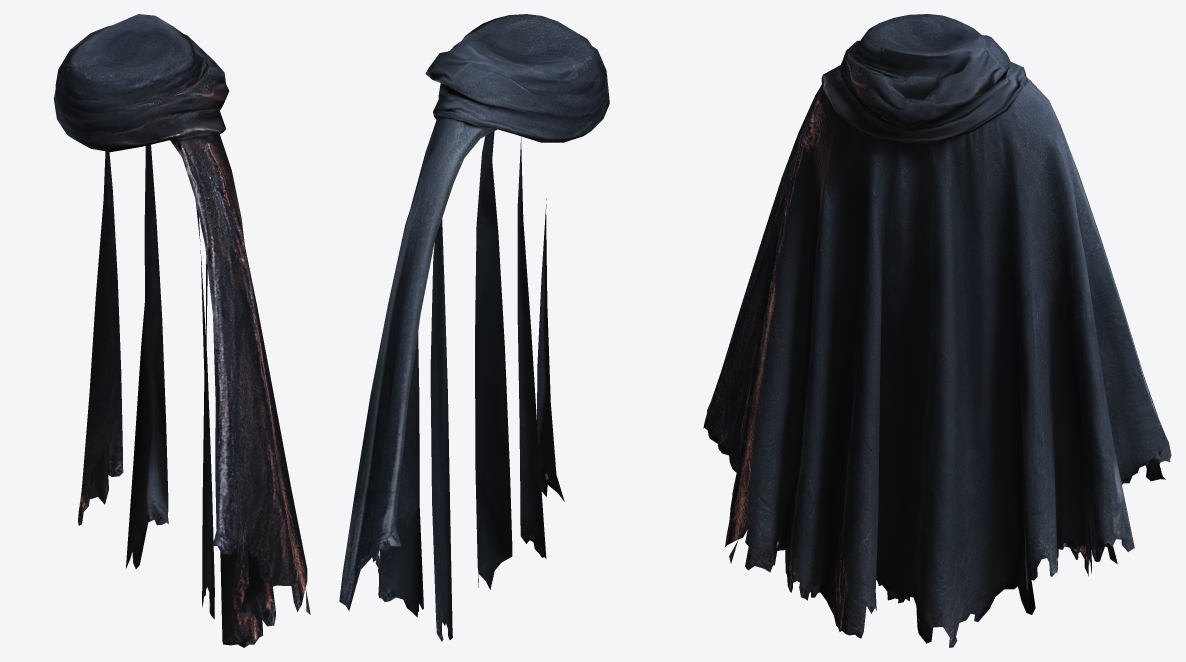
The model's file is back.glb.
3 views of the same model, side by side, from view 1: azimuth 30°, elevation 25°; view 2: azimuth 150°, elevation 25°; view 3: azimuth 270°, elevation 25° (orthographic). The views are drawn at different scales.
Visible parts, largest first — view 1: tripo_node_d5b8d577-d7eb-4514-959f-cedea4def1c5; view 2: tripo_node_d5b8d577-d7eb-4514-959f-cedea4def1c5; view 3: tripo_node_d5b8d577-d7eb-4514-959f-cedea4def1c5.
Boxes of the visible parts, <box> form: tripo_node_d5b8d577-d7eb-4514-959f-cedea4def1c5: <box>54,14,310,647</box>; tripo_node_d5b8d577-d7eb-4514-959f-cedea4def1c5: <box>339,14,609,641</box>; tripo_node_d5b8d577-d7eb-4514-959f-cedea4def1c5: <box>703,14,1171,647</box>.
Size of the model in its own units: 0.2729 by 0.9995 by 0.7212.
Materials: 1 (1 with a texture image).
